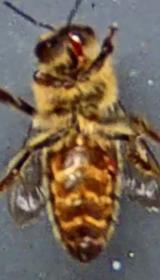varroa_mite: (92, 144, 117, 172)
